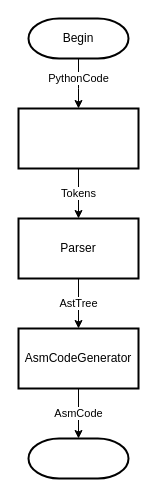
Some shapes in this 156 by 496 pixel diagram are drawn without their labels. The shapes that lost their labels are listed below. From the top down, each one's centre as x and y in pixels, then its label:
At pixel 78 138: "Lexer".
At pixel 78 458: "End".
